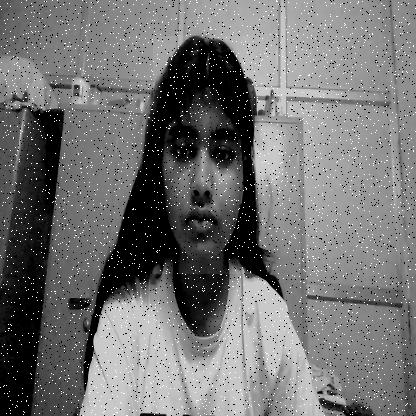Normal: (153, 36, 253, 274)
